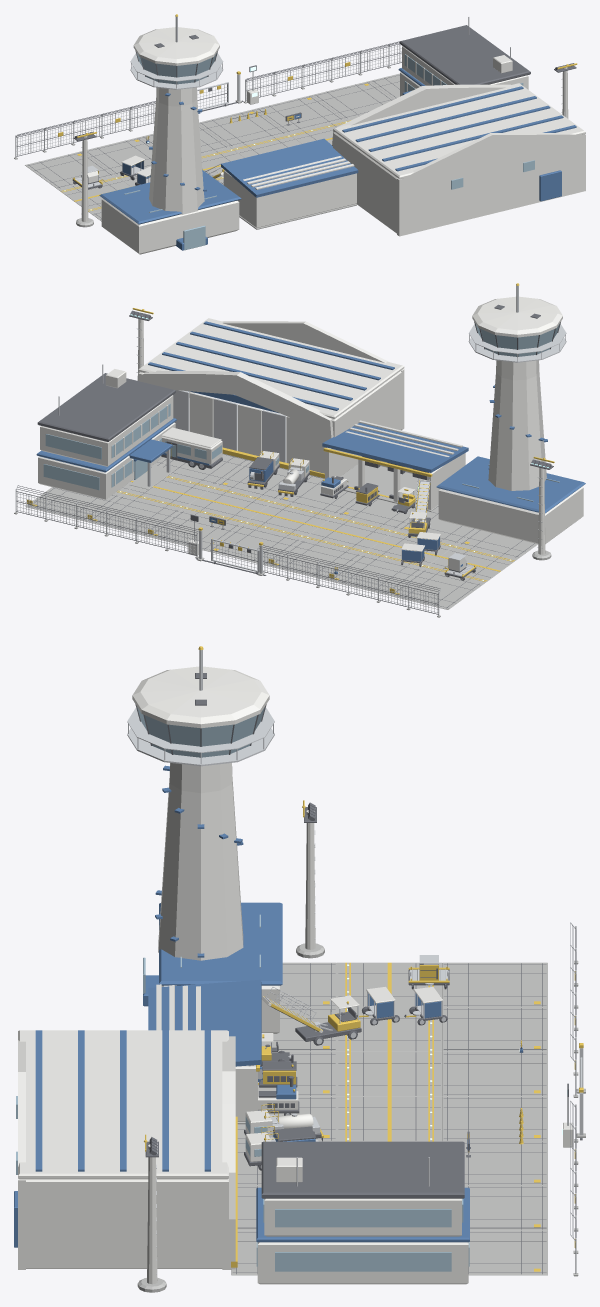
Rendered from airfield_suppor.glb.
3 views of the same model, one above another, from view 1: azimuth 30°, elevation 25°; view 2: azimuth 150°, elevation 25°; view 3: azimuth 270°, elevation 25° (orthographic). The views are drawn at different scales.
Visible parts, largest first — view 1: 022-hangar-frontage/0, 021-control-tower/0, 023-gse-store/0, 024-crew-building/0, 009-apron-paving-tile/0, 012-apron-paving-tile/0, 015-apron-paving-tile/0, 000-apron-paving-tile/0, 003-apron-paving-tile/0, 028-perimeter-fence-run/0, 030-perimeter-fence-run/0, 001-taxiway-tile/0 (+13 smaller); view 2: 022-hangar-frontage/0, 021-control-tower/0, 024-crew-building/0, 023-gse-store/0, 000-apron-paving-tile/0, 007-taxiway-tile/0, 010-taxiway-tile/0, 006-apron-paving-tile/0, 013-taxiway-tile/0, 015-apron-paving-tile/0, 003-apron-paving-tile/0, 009-apron-paving-tile/0 (+26 smaller); view 3: 022-hangar-frontage/0, 021-control-tower/0, 024-crew-building/0, 023-gse-store/0, 007-taxiway-tile/0, 010-taxiway-tile/0, 006-apron-paving-tile/0, 000-apron-paving-tile/0, 003-apron-paving-tile/0, 009-apron-paving-tile/0, 012-apron-paving-tile/0, 018-apron-paving-tile/0 (+19 smaller).
Part boxes in pixels (bbox=[...]): 022-hangar-frontage/0: bbox=[332, 83, 585, 236]; 021-control-tower/0: bbox=[99, 14, 241, 254]; 023-gse-store/0: bbox=[221, 138, 358, 229]; 024-crew-building/0: bbox=[398, 17, 530, 96]; 009-apron-paving-tile/0: bbox=[199, 109, 286, 147]; 012-apron-paving-tile/0: bbox=[255, 95, 344, 133]; 015-apron-paving-tile/0: bbox=[312, 81, 393, 119]; 000-apron-paving-tile/0: bbox=[25, 151, 114, 189]; 003-apron-paving-tile/0: bbox=[87, 137, 152, 175]; 028-perimeter-fence-run/0: bbox=[14, 120, 74, 159]; 030-perimeter-fence-run/0: bbox=[302, 50, 362, 89]; 001-taxiway-tile/0: bbox=[58, 175, 130, 213]; 022-hangar-frontage/0: bbox=[138, 318, 404, 478]; 021-control-tower/0: bbox=[436, 283, 585, 543]; 024-crew-building/0: bbox=[36, 364, 176, 499]; 023-gse-store/0: bbox=[322, 420, 468, 511]; 000-apron-paving-tile/0: bbox=[389, 569, 482, 609]; 007-taxiway-tile/0: bbox=[302, 514, 396, 554]; 010-taxiway-tile/0: bbox=[242, 500, 336, 539]; 006-apron-paving-tile/0: bbox=[267, 540, 361, 580]; 013-taxiway-tile/0: bbox=[181, 485, 275, 525]; 015-apron-paving-tile/0: bbox=[86, 496, 180, 536]; 003-apron-paving-tile/0: bbox=[327, 555, 422, 595]; 009-apron-paving-tile/0: bbox=[207, 525, 301, 565]; 022-hangar-frontage/0: bbox=[14, 1030, 237, 1269]; 021-control-tower/0: bbox=[127, 646, 282, 1033]; 024-crew-building/0: bbox=[256, 1141, 469, 1284]; 023-gse-store/0: bbox=[148, 979, 261, 1124]; 007-taxiway-tile/0: bbox=[337, 1051, 442, 1096]; 010-taxiway-tile/0: bbox=[337, 1096, 442, 1140]; 006-apron-paving-tile/0: bbox=[442, 1052, 547, 1096]; 000-apron-paving-tile/0: bbox=[442, 962, 547, 1007]; 003-apron-paving-tile/0: bbox=[442, 1007, 547, 1051]; 009-apron-paving-tile/0: bbox=[442, 1096, 547, 1140]; 012-apron-paving-tile/0: bbox=[442, 1141, 547, 1185]; 018-apron-paving-tile/0: bbox=[468, 1230, 547, 1275].
Size of the model in its own units: 62.7 by 29.32 by 43.38.
Materials: 1 (1 with a texture image).
